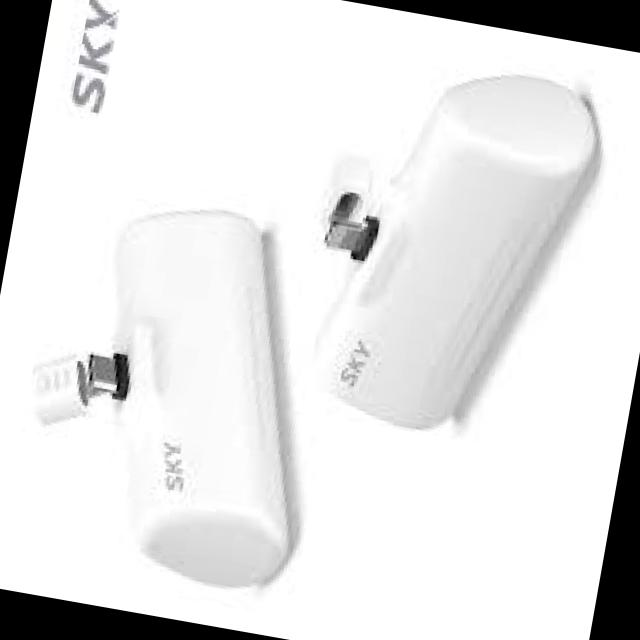portable-charger: (1, 178, 349, 602), (282, 40, 612, 463)
